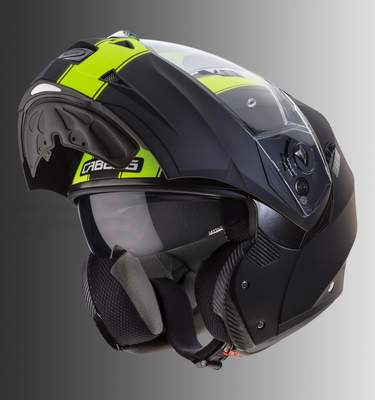with_helmet: (13, 24, 360, 373)
